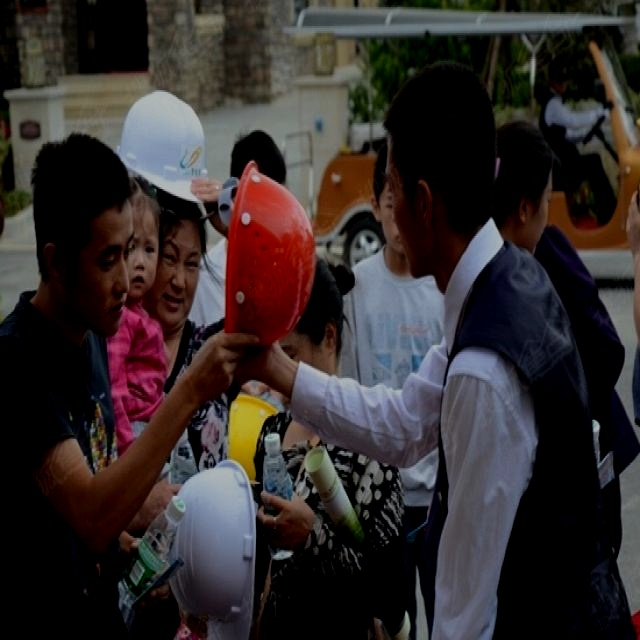Sin_Casco_Mascarrilla: (387, 66, 510, 261), (34, 132, 130, 322)
